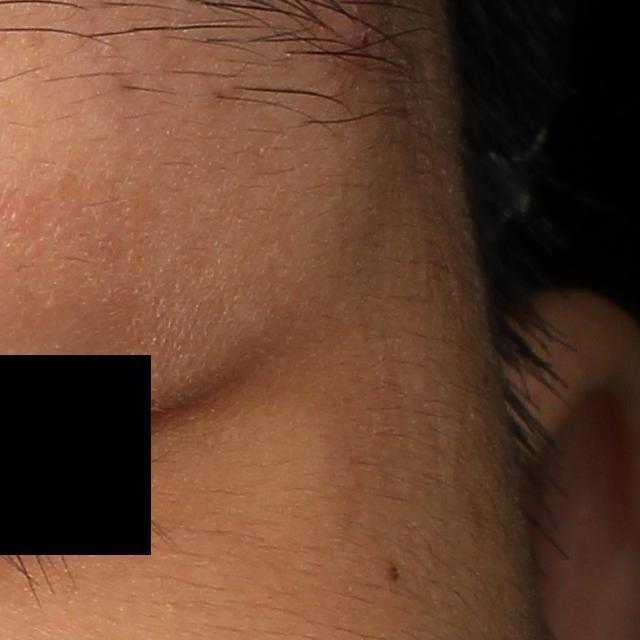nevus: (388, 561, 401, 585)
